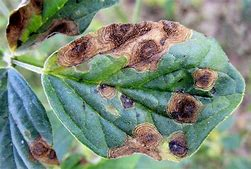unhealthy: (41, 25, 240, 157)
